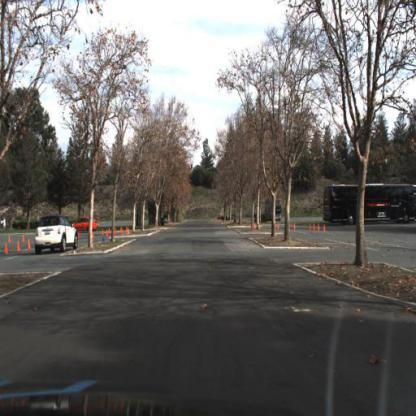car: (34, 215, 80, 255), (73, 216, 98, 234)
truck: (322, 183, 416, 225), (264, 198, 282, 222)
